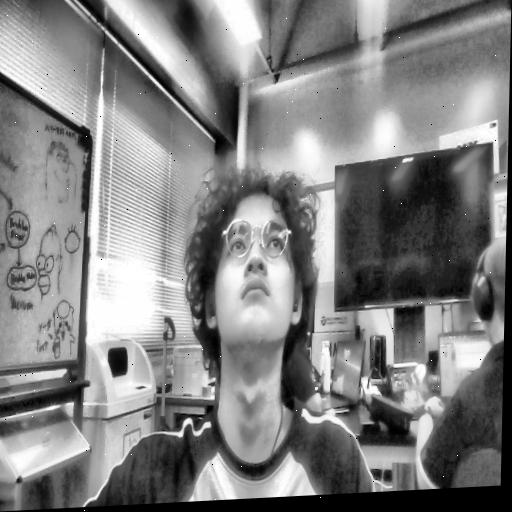Daifuku: (177, 159, 320, 401)
Not Daifuku: (470, 235, 506, 358)
